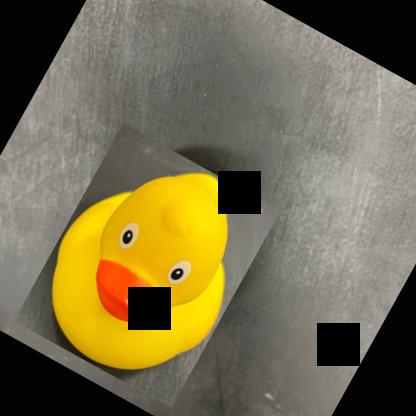duck: (13, 123, 280, 408)
